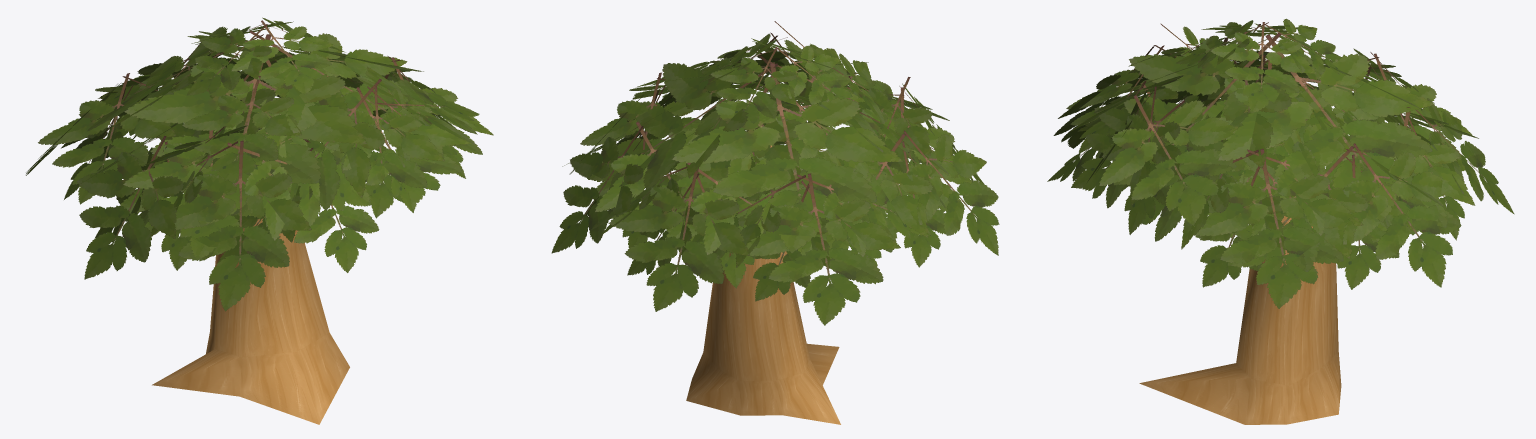
Rendered from Albero2.glb.
3 views of the same model, side by side, from view 1: azimuth 30°, elevation 25°; view 2: azimuth 150°, elevation 25°; view 3: azimuth 270°, elevation 25° (orthographic). The views are drawn at different scales.
Visible parts, largest first — view 1: Albero_02; view 2: Albero_02; view 3: Albero_02.
Boxes of the visible parts, bbox=[...] form: Albero_02: bbox=[26, 17, 493, 424]; Albero_02: bbox=[551, 21, 999, 424]; Albero_02: bbox=[1047, 18, 1514, 424].
Size of the model in its own units: 10.6 by 8.59 by 10.25.
Materials: 1 (1 with a texture image).
